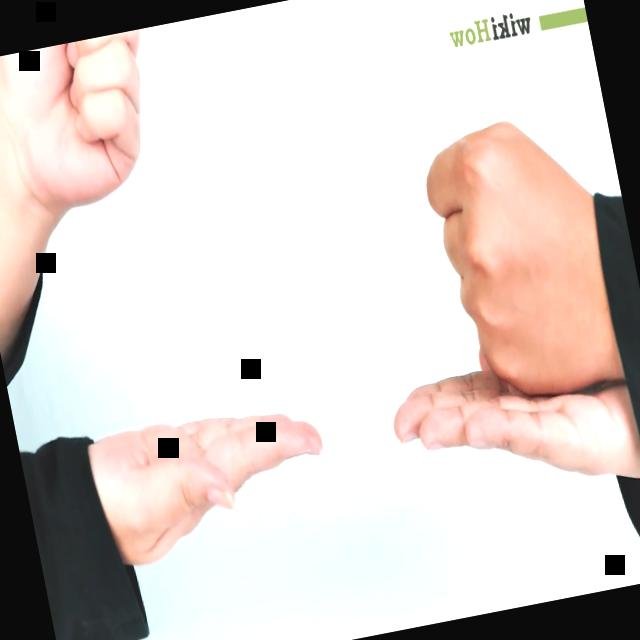Rock: (414, 104, 628, 418), (0, 29, 173, 228)
